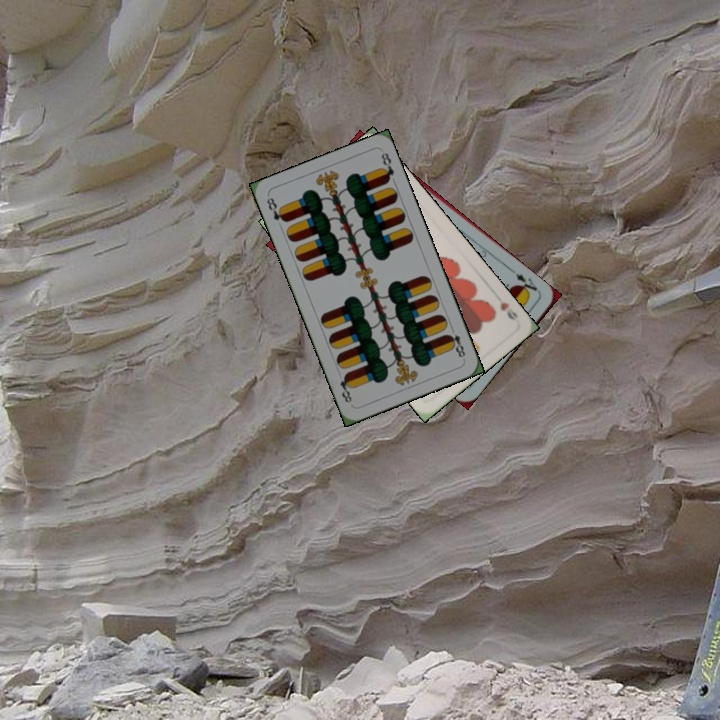E8: (443, 323, 468, 360), (262, 193, 289, 225)
EA: (508, 266, 542, 298)
H9: (496, 298, 520, 323)
